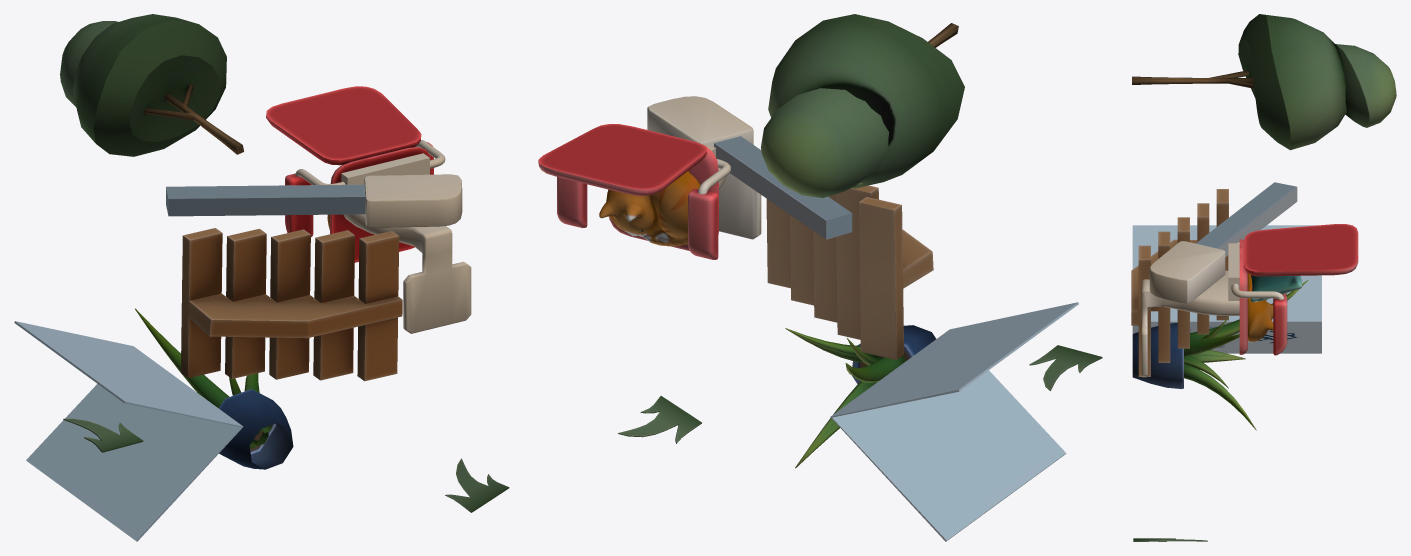
Rendered from stairlift.glb.
3 renders of one model, left to right at view 1: azimuth 30°, elevation 25°; view 2: azimuth 150°, elevation 25°; view 3: azimuth 270°, elevation 25°, orthographic. The views are drawn at different scales.
Visible parts, largest first — view 1: FardeauEnfants, Arbre_FardeauEnfants; view 2: FardeauEnfants, Arbre_FardeauEnfants; view 3: FardeauEnfants, Arbre_FardeauEnfants.
Boxes of the visible parts, x1,y1,x2,y2 form: FardeauEnfants: (14,86,471,541); Arbre_FardeauEnfants: (60,14,509,512); FardeauEnfants: (538,96,1078,541); Arbre_FardeauEnfants: (618,14,1102,443); FardeauEnfants: (1131,182,1358,430); Arbre_FardeauEnfants: (1132,14,1396,541).
Bounding box in the file's own units: 0.9726 × 1.1 × 0.6267.
2 materials, 2 textured.
